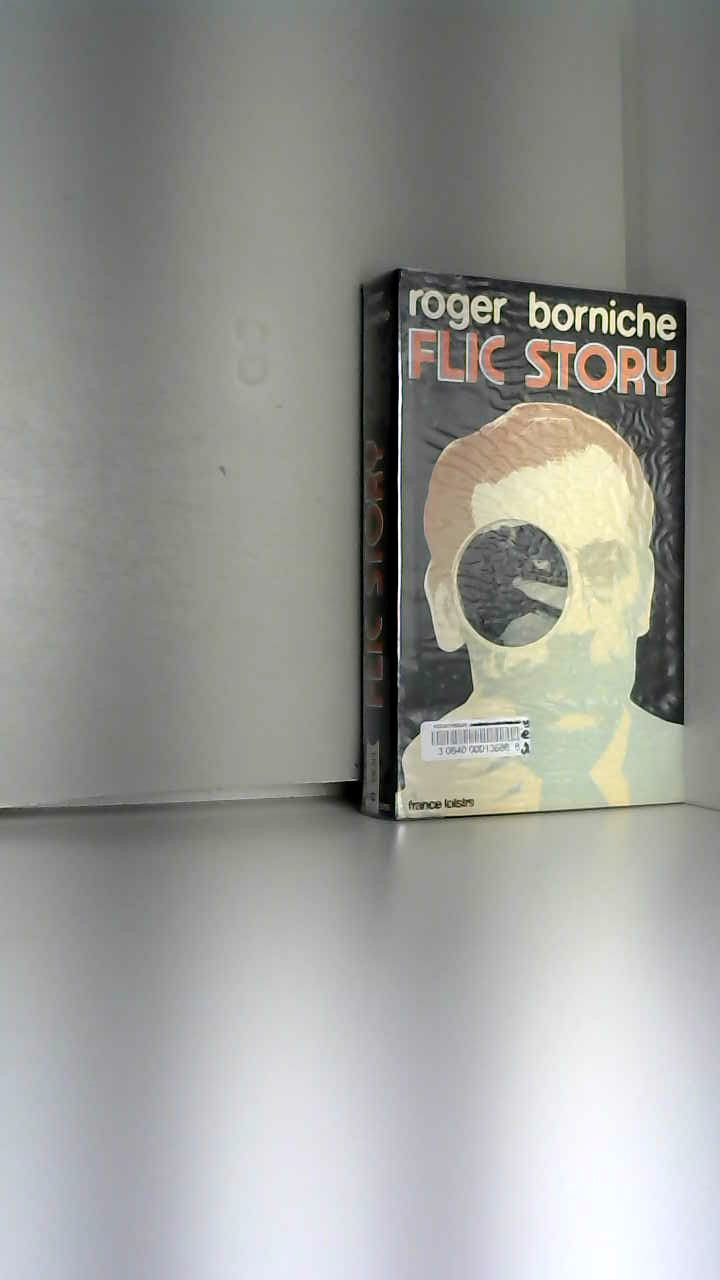book: (330, 240, 720, 875)
